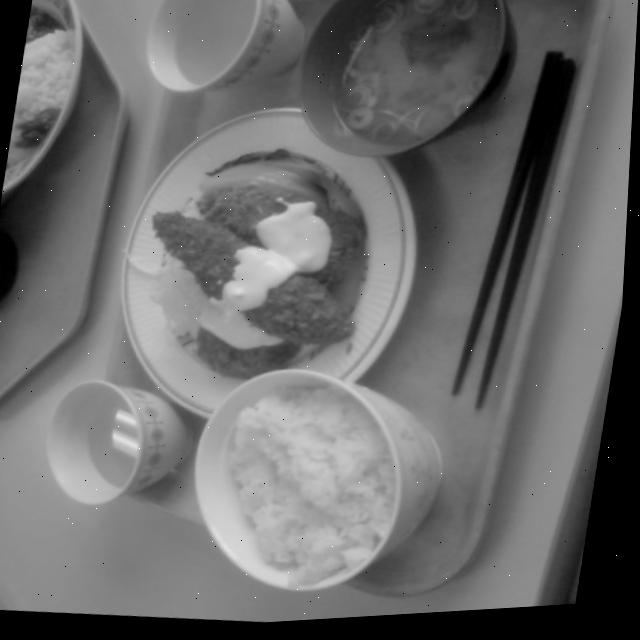汤锅炖物: (280, 0, 513, 182)
炸货点心: (80, 91, 459, 451)
熟制海鲜: (80, 91, 459, 451)
米饭主食: (155, 338, 466, 592)
